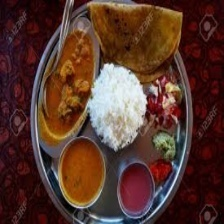roti: (86, 1, 182, 74)
